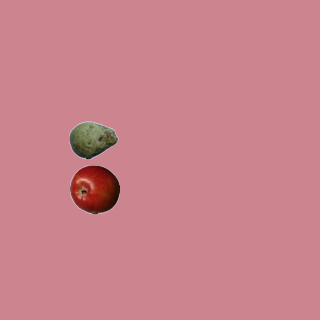Apple Braeburn: (69, 164, 119, 214)
Pear Stone: (68, 115, 118, 165)
